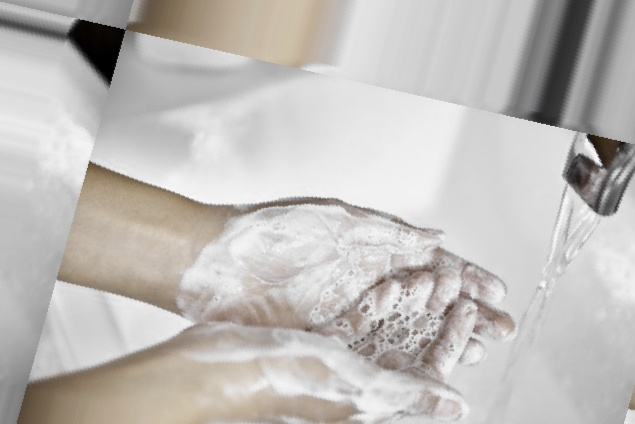washing hand: (123, 67, 634, 423)
